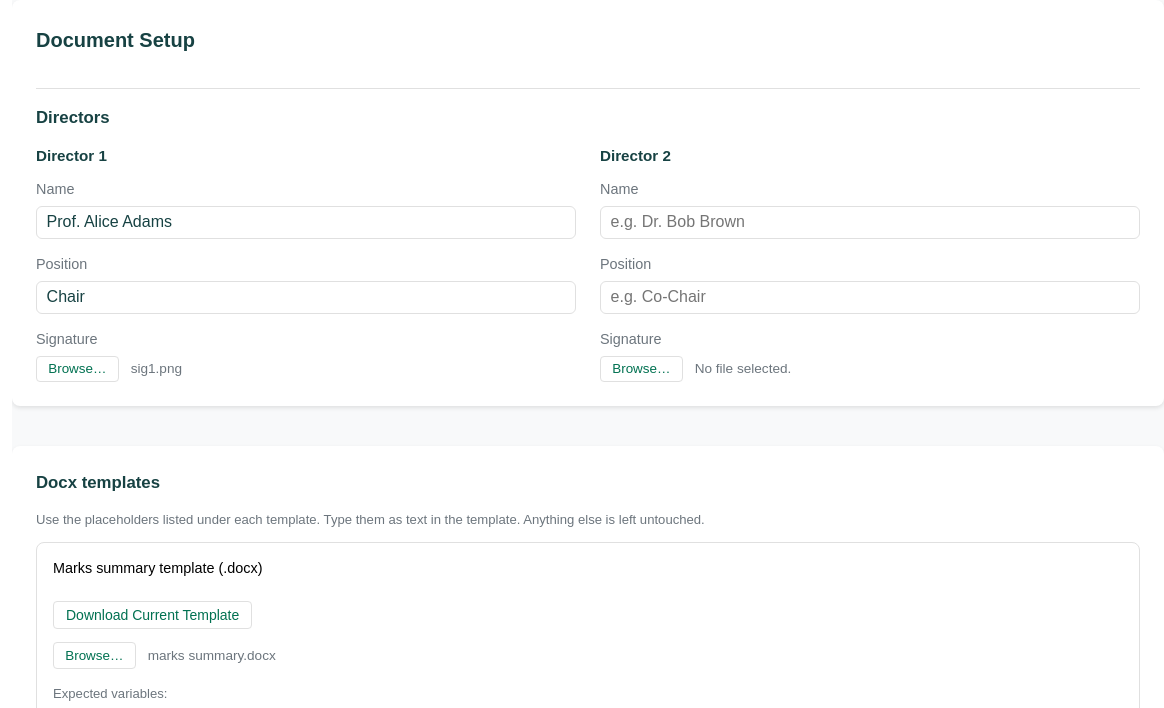
saving › name-only edits go as plain JSON
Type "Dr. Bob Brown" into the field labelled "Name" below "Director 2".
click(870, 222); type("Dr. Bob Brown")  # box [600,206,1140,239]
(page scrolled)
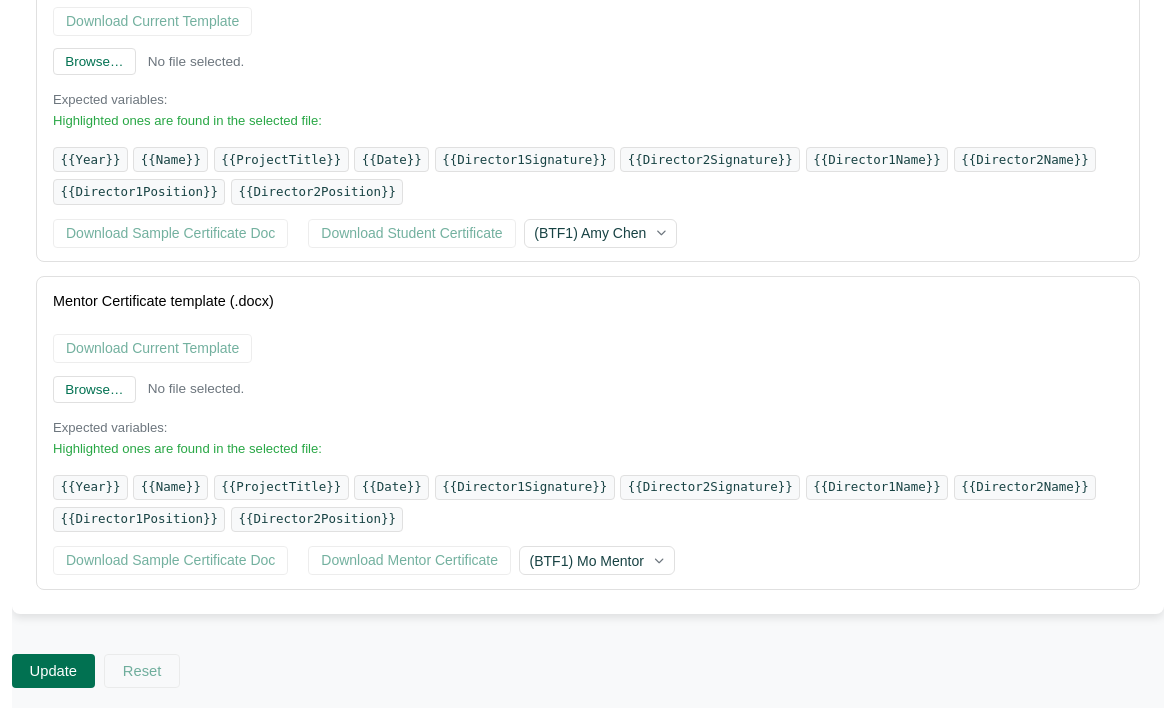
Click the button "Update".
click(53, 671)  # box [12,654,95,688]
(page scrolled)
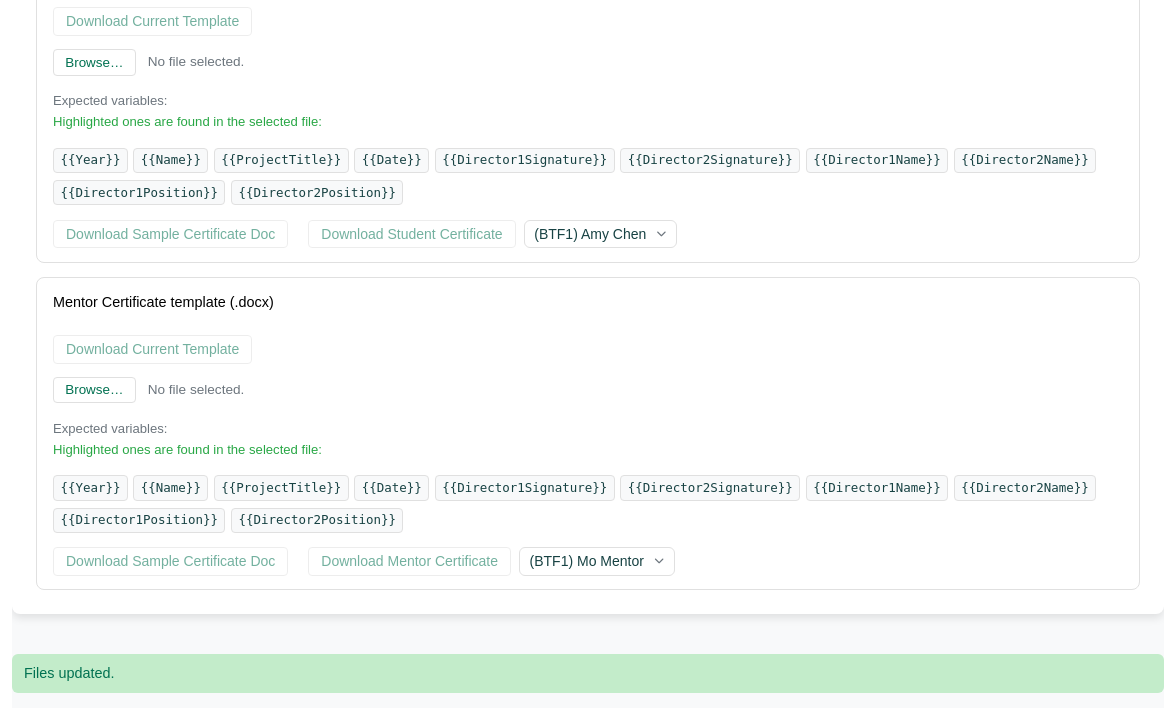
Result: the text with class "grading-settings__banner--ok" reads "Files updated." at [24,665,114,681]
